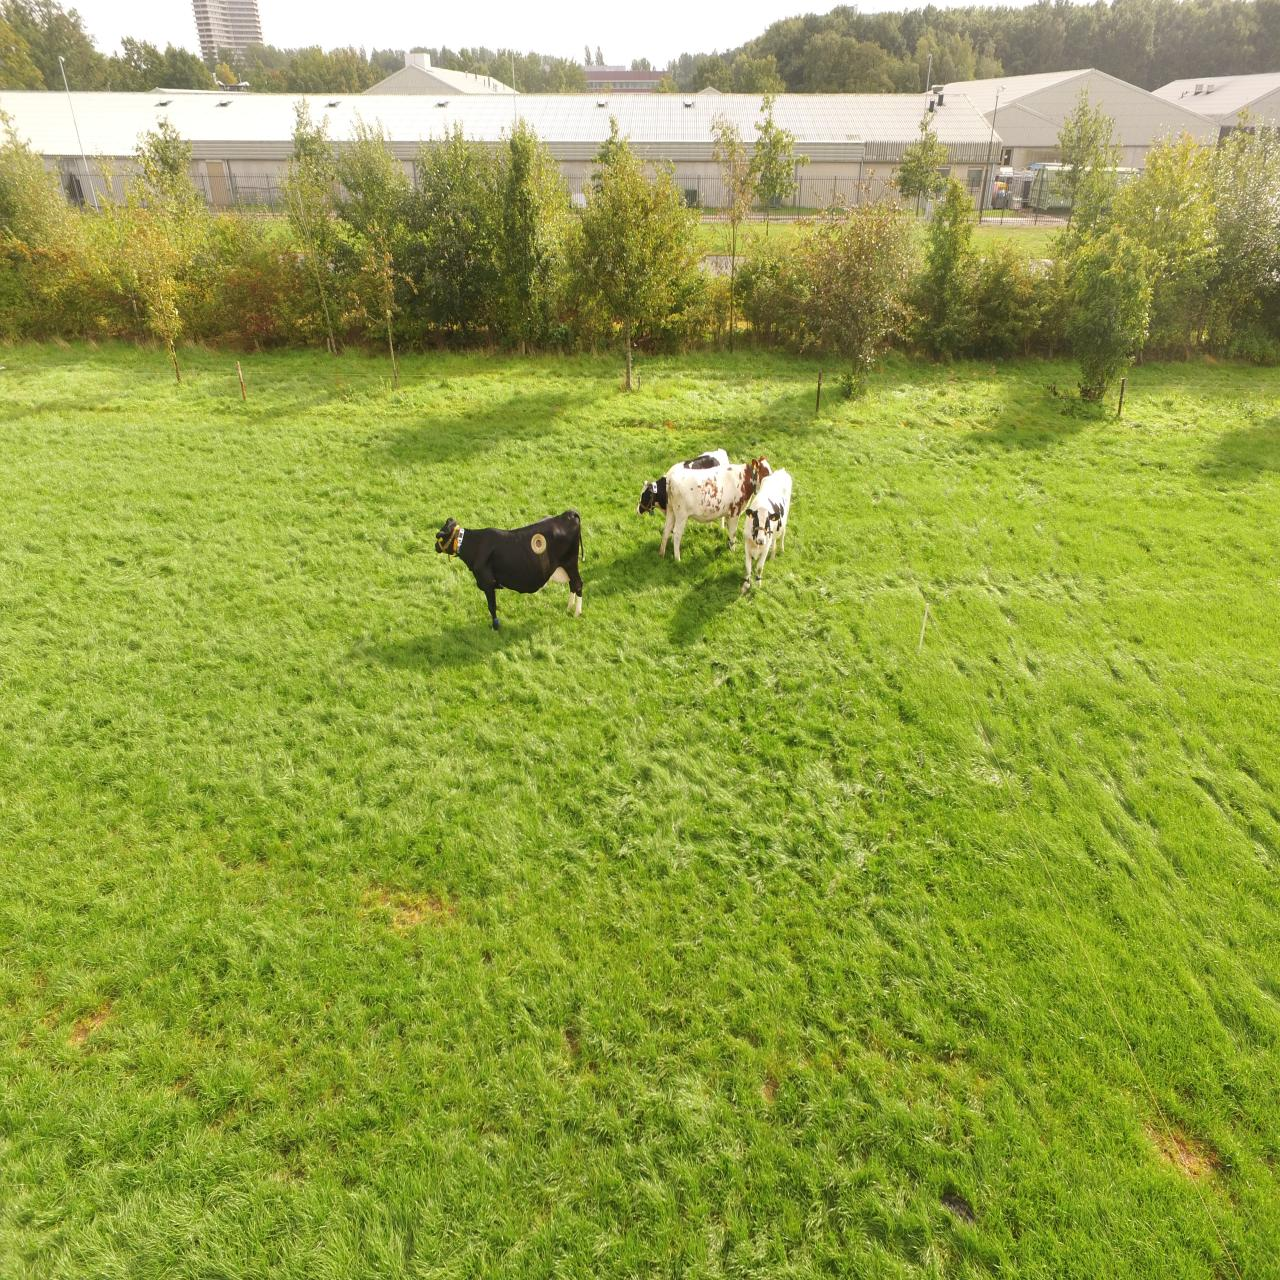cow: (436, 508, 585, 630), (658, 456, 786, 563), (636, 449, 726, 536), (740, 467, 792, 591)
